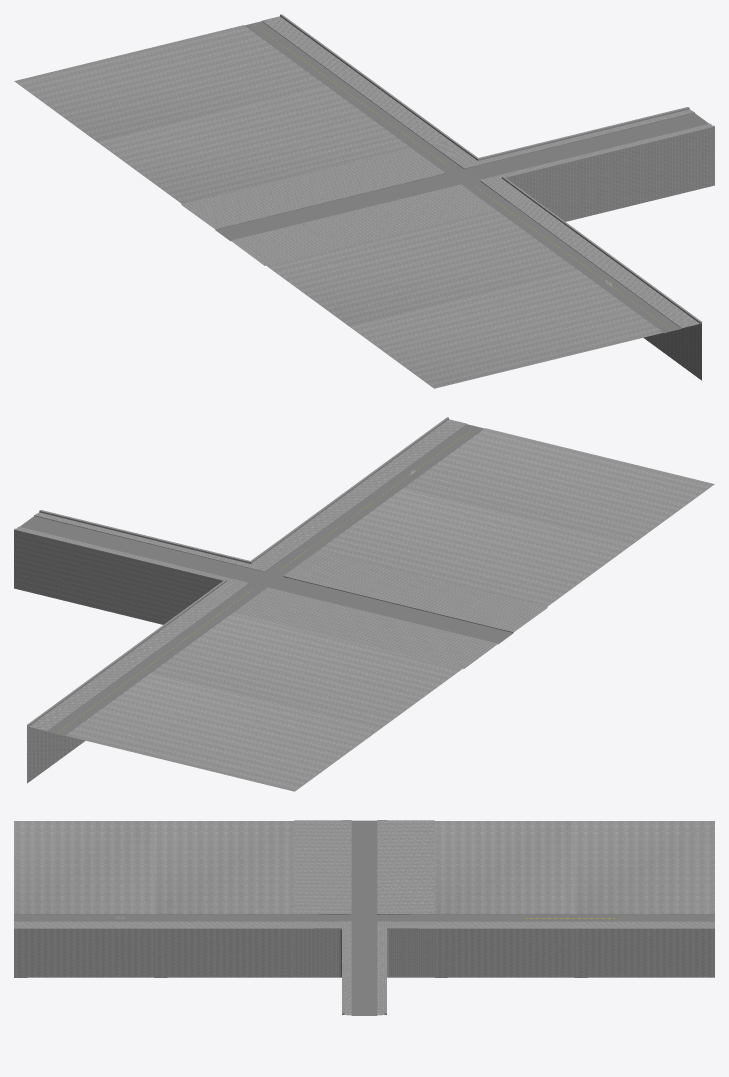
File: Road2.fbx
The picture shows the model from 3 angles, top to bottom: view 1: azimuth 30°, elevation 25°; view 2: azimuth 150°, elevation 25°; view 3: azimuth 270°, elevation 25°; orthographic projection. The views are drawn at different scales.
Parts seen in each view (by area): view 1: Block Intersection, Block 1, Block 4, Block 2, Block 3; view 2: Block Intersection, Block 4, Block 2, Block 3, Block 1; view 3: Block Intersection, Block 1, Block 2, Block 3, Block 4.
Part boxes in pixels (box(x1,y1,x2,y2)): Block Intersection: box(181, 107, 714, 265); Block 1: box(350, 260, 701, 388); Block 4: box(14, 14, 365, 142); Block 2: box(266, 199, 617, 326); Block 3: box(98, 76, 449, 203); Block Intersection: box(14, 510, 547, 668); Block 4: box(27, 663, 378, 791); Block 2: box(279, 479, 630, 606); Block 3: box(111, 602, 462, 729); Block 1: box(363, 417, 714, 545); Block Intersection: box(294, 820, 434, 1015); Block 1: box(14, 821, 154, 977); Block 2: box(154, 821, 294, 977); Block 3: box(434, 821, 574, 977); Block 4: box(574, 821, 714, 977).
Size of the model in its own units: 659 by 78 by 1000.
4 materials, 1 textured.
